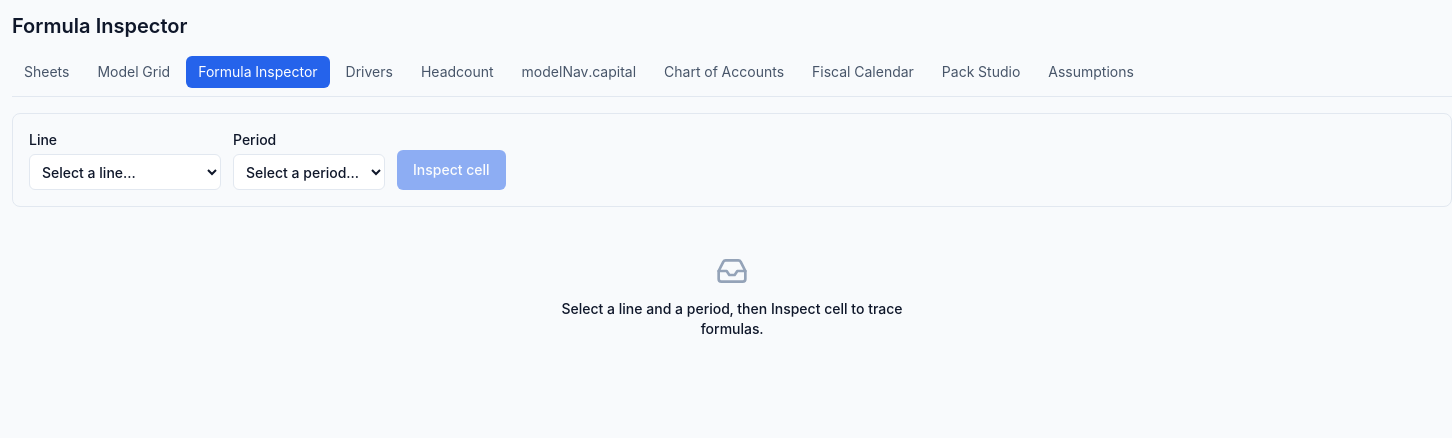
Scenario: S-042 Formula Inspector (F-012) › renders the populated inspection with formula, computed value, precedents and dependents
Select "4000 · Revenue" in the dropdown labelled "Line": {"x": 125, "y": 172} [29,154,221,190]
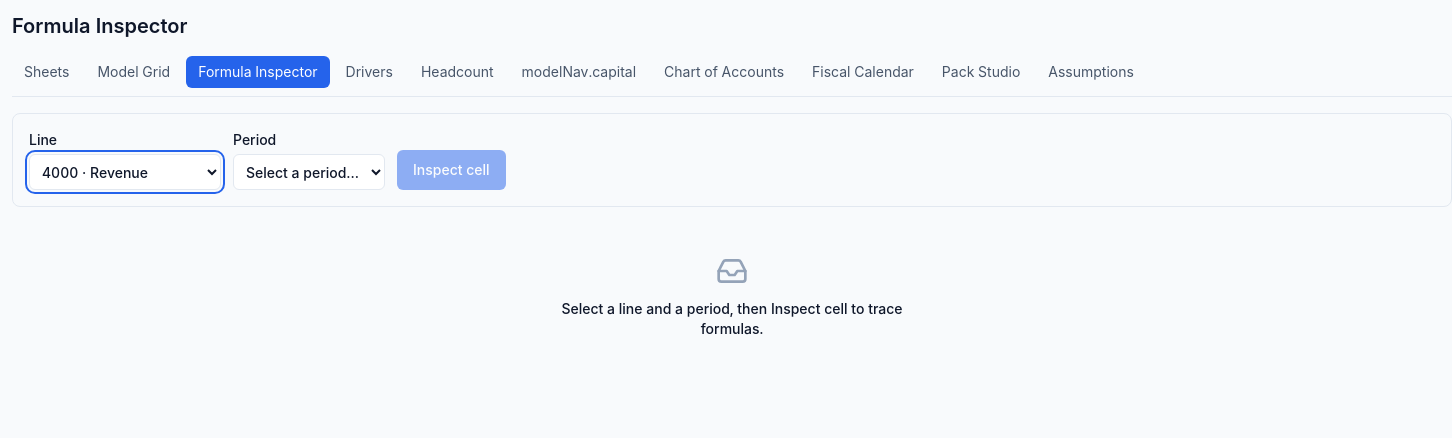
Select "P01" in the dropdown labelled "Period": {"x": 309, "y": 172} [233,154,385,190]
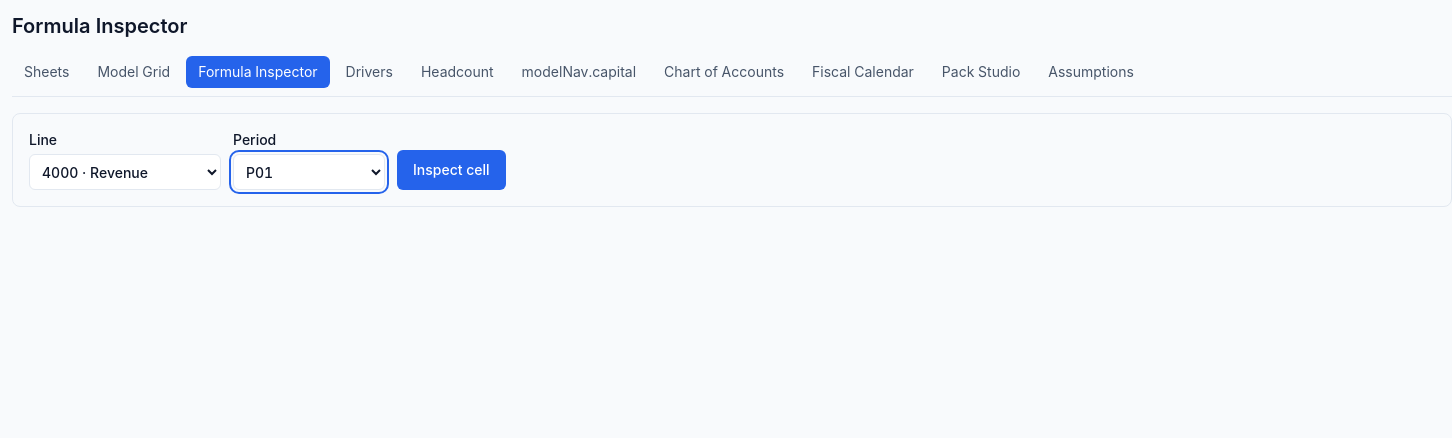
Expected: the button "Inspect cell" is enabled
Click the button "Inspect cell": {"x": 451, "y": 170} [397,150,506,190]
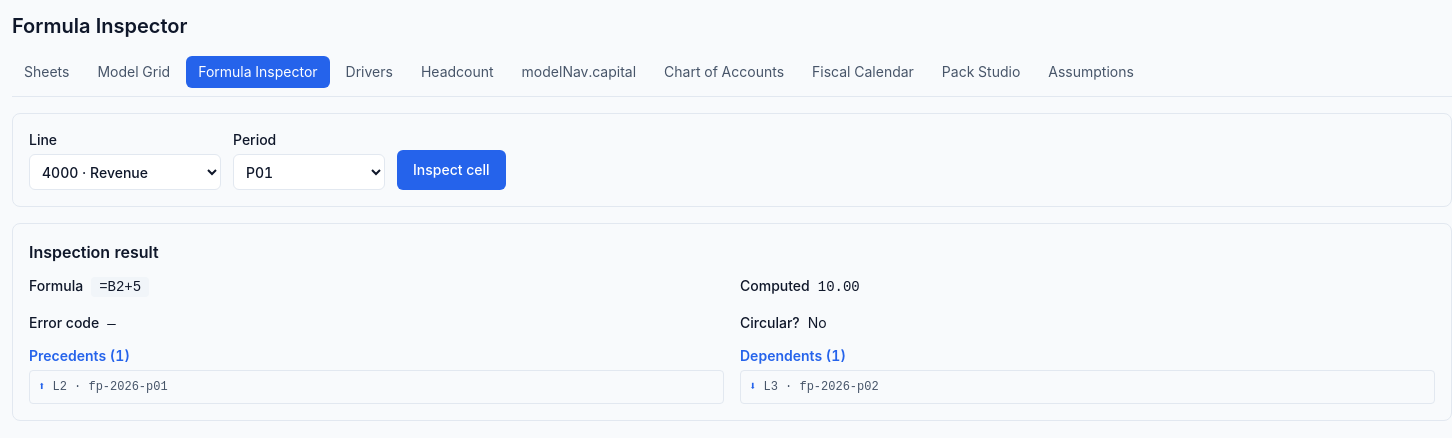
Expected: the heading "Inspection result" is shown, [29,242,159,262]
Expected: the text "=B2+5" is shown, [91,277,149,297]
Expected: the text "10.00" is shown, [818,279,860,295]
